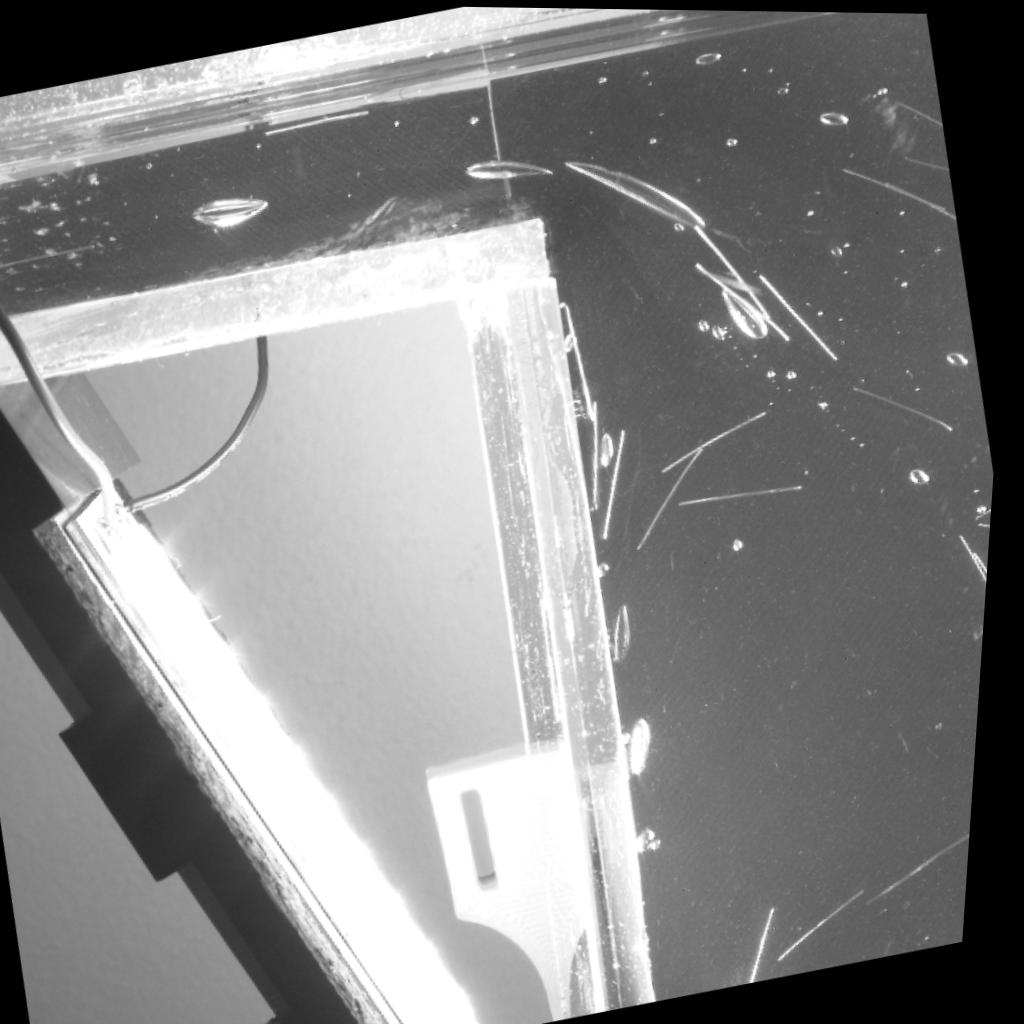Fiber: (756, 264, 848, 359), (694, 257, 795, 342), (691, 218, 777, 317), (663, 401, 776, 476), (876, 826, 981, 905), (639, 443, 714, 552), (786, 879, 878, 966), (838, 162, 949, 213), (857, 379, 966, 430), (562, 297, 601, 422), (261, 103, 376, 141), (681, 478, 810, 506), (605, 423, 635, 539), (884, 175, 959, 221), (0, 240, 101, 273), (762, 898, 793, 981), (890, 85, 945, 126), (961, 523, 995, 586), (899, 147, 953, 174), (596, 394, 607, 508), (972, 493, 999, 515), (979, 542, 995, 579), (975, 514, 998, 529)
